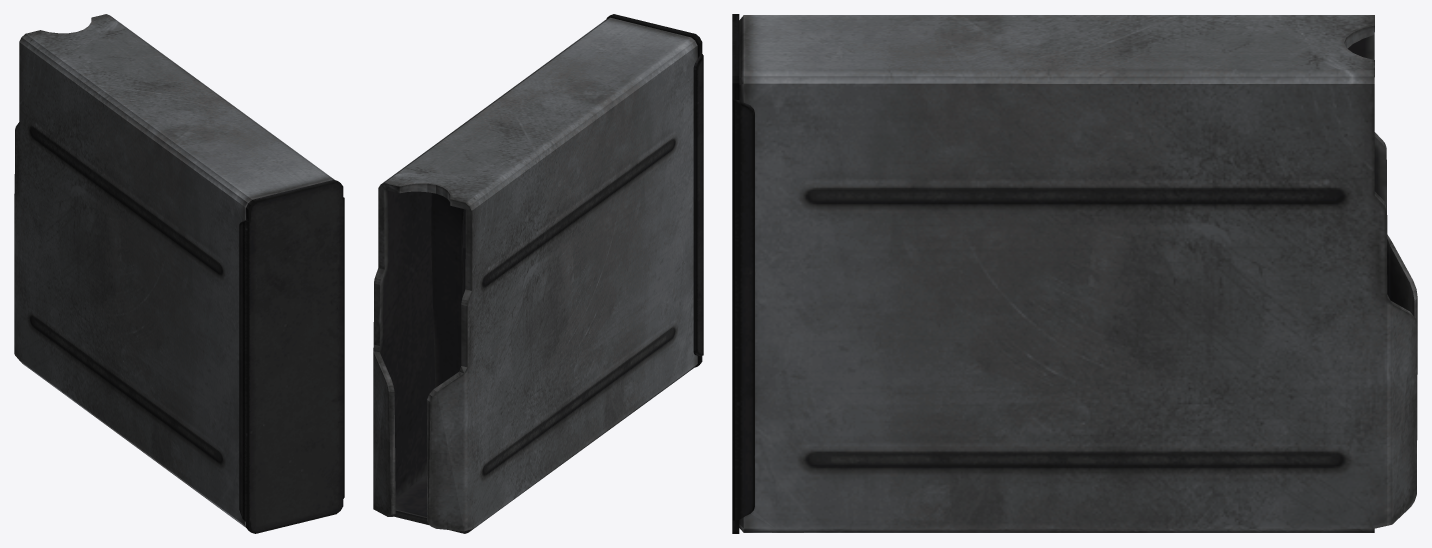
File: Mag308ExtSm.fbx
The picture shows the model from 3 angles, left to right: view 1: azimuth 30°, elevation 25°; view 2: azimuth 150°, elevation 25°; view 3: azimuth 270°, elevation 25°; orthographic projection. The views are drawn at different scales.
Visible parts, largest first — view 1: Mag308ExtSm; view 2: Mag308ExtSm; view 3: Mag308ExtSm.
Part boxes in pixels (left/top/right/bottom): Mag308ExtSm: left=14, top=14, right=344, bottom=533; Mag308ExtSm: left=373, top=14, right=703, bottom=533; Mag308ExtSm: left=732, top=14, right=1417, bottom=533.
Size of the model in its own units: 0.0157 by 0.0496 by 0.0664.
